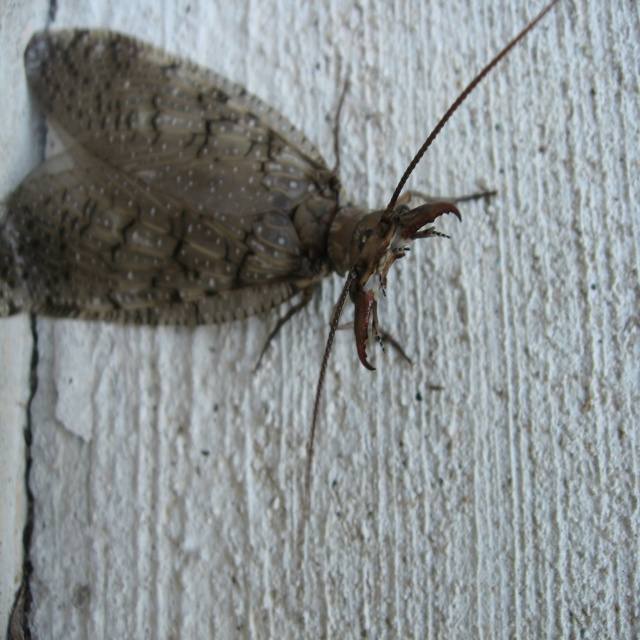Moths and butterflies: (0, 0, 566, 486)
